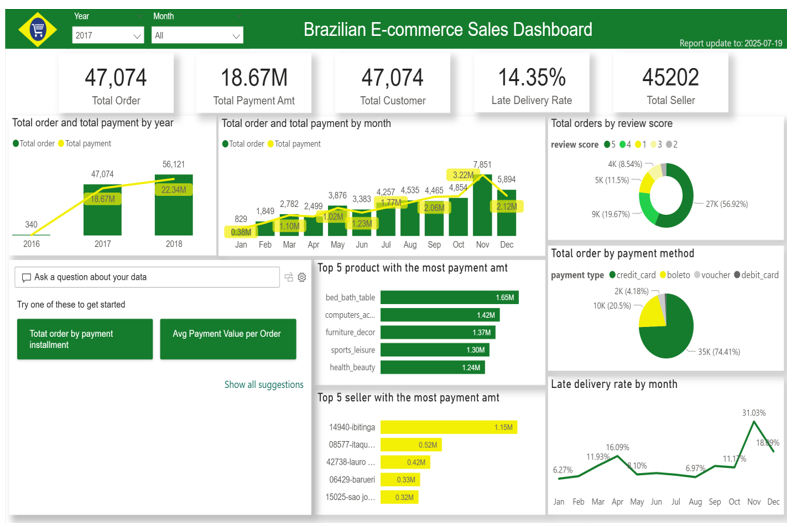

The page's visual inventory and layout, read from the dashboard file:
{"tool":"powerbi","page":{"name":"Page 1","canvas":[1280,720],"ordinal":0},"visuals":[{"type":"lineClusteredColumnComboChart","title":"Total order and total payment by year","fields":{"Category":["star_schema dim_date.date_value.Variation.Date Hierarchy.Year"],"Y2":["Sum(star_schema fact_order.total_payment_value)"],"Y":["Sum(star_schema fact_order.total_order)"]},"box":[6.1,149.4,339.5,192.8],"z":0},{"type":"lineClusteredColumnComboChart","title":"Total order and total payment by month","fields":{"Y2":["Sum(star_schema fact_order.total_payment_value)"],"Y":["Sum(star_schema fact_order.total_order)"],"Category":["star_schema dim_date.monthshortname"]},"box":[349,150,535,192.8],"z":1000},{"type":"actionButton","box":[0.5,0,1279.5,56.7],"z":2000},{"type":"actionButton","box":[0,0,105.9,56.7],"z":3000},{"type":"slicer","fields":{"Values":["star_schema dim_date.date_value.Variation.Date Hierarchy.Year"]},"box":[100.1,0,137.6,56.7],"z":4000},{"type":"card","title":"Report update to","fields":{"Values":["Min(star_schema report_execution_logs.finished_time)"]},"box":[1201.1,35,78.4,31.7],"z":5000},{"type":"slicer","fields":{"Values":["star_schema dim_date.date_value.Variation.Date Hierarchy.Month"]},"box":[229.4,0,170.1,56.7],"z":6000},{"type":"textbox","box":[1098.5,33.4,151.8,41.7],"z":7000},{"type":"clusteredBarChart","title":"Top 5 seller with the most payment amt","fields":{"Category":["star_schema dim_seller.seller"],"Y":["Sum(star_schema fact_order.total_payment_value)"]},"box":[505.8,527.5,378.2,172.4],"z":8000},{"type":"clusteredBarChart","title":"Top 5 product with the most payment amt","fields":{"Y":["Sum(star_schema fact_order.total_payment_value)"],"Category":["star_schema dim_product.product_category_name_english"]},"box":[505.8,348.3,378.2,172.4],"z":9000},{"type":"lineChart","title":"Late delivery rate by month","fields":{"Y":["star_schema fact_order.late_delivery_rate"],"Category":["star_schema dim_date.monthshortname"]},"box":[888,509.2,386.3,190.8],"z":10000},{"type":"donutChart","title":"Total orders by review score","fields":{"Category":["star_schema fact_order.review_score"],"Y":["Sum(star_schema fact_order.total_order)"]},"box":[888,150,386.3,170.4],"z":11000},{"type":"card","fields":{"Values":["Sum(star_schema fact_order.total_order)"]},"box":[86.6,62.6,188.5,82.6],"z":12000},{"type":"card","fields":{"Values":["Sum(star_schema fact_order.total_payment_value)"]},"box":[312.6,62.6,188.5,82.6],"z":13000},{"type":"card","fields":{"Values":["Sum(star_schema fact_order.total_customer)"]},"box":[539.5,62.6,188.5,82.6],"z":14000},{"type":"card","fields":{"Values":["star_schema fact_order.late_delivery_rate"]},"box":[767.2,61.8,188.5,82.6],"z":15000},{"type":"card","fields":{"Values":["Sum(star_schema fact_order.total_seller)"]},"box":[994.9,61.8,188.5,82.6],"z":16000},{"type":"pieChart","title":"Total order by payment method","fields":{"Category":["star_schema dim_payment_type.payment_type"],"Y":["Sum(star_schema fact_order.total_order)"]},"box":[888,328.6,386.3,172.4],"z":17000},{"type":"qnaVisual","box":[6.1,348.3,494.9,351.7],"z":18000},{"type":"textbox","box":[483.4,9.5,511.2,44.8],"z":19000}]}

Visuals, with their boxes in screenshot pixels (x1, y1, x2, y2):
"Total order and total payment by year" lineClusteredColumnComboChart: region(8, 97, 215, 215)
"Total order and total payment by month" lineClusteredColumnComboChart: region(217, 98, 544, 216)
actionButton: region(4, 6, 786, 41)
actionButton: region(4, 6, 69, 41)
slicer - star_schema dim_date.date_value.Variation.Date Hierarchy.Year: region(65, 6, 149, 41)
"Report update to" card: region(738, 28, 786, 47)
slicer - star_schema dim_date.date_value.Variation.Date Hierarchy.Month: region(144, 6, 248, 41)
textbox: region(675, 27, 768, 52)
"Top 5 seller with the most payment amt" clusteredBarChart: region(313, 328, 544, 434)
"Top 5 product with the most payment amt" clusteredBarChart: region(313, 219, 544, 324)
"Late delivery rate by month" lineChart: region(547, 317, 783, 434)
"Total orders by review score" donutChart: region(547, 98, 783, 202)
card - Sum(star_schema fact_order.total_order): region(57, 44, 172, 95)
card - Sum(star_schema fact_order.total_payment_value): region(195, 44, 310, 95)
card - Sum(star_schema fact_order.total_customer): region(334, 44, 449, 95)
card - star_schema fact_order.late_delivery_rate: region(473, 44, 588, 94)
card - Sum(star_schema fact_order.total_seller): region(612, 44, 727, 94)
"Total order by payment method" pieChart: region(547, 207, 783, 312)
qnaVisual: region(8, 219, 310, 434)
textbox: region(299, 12, 612, 39)
